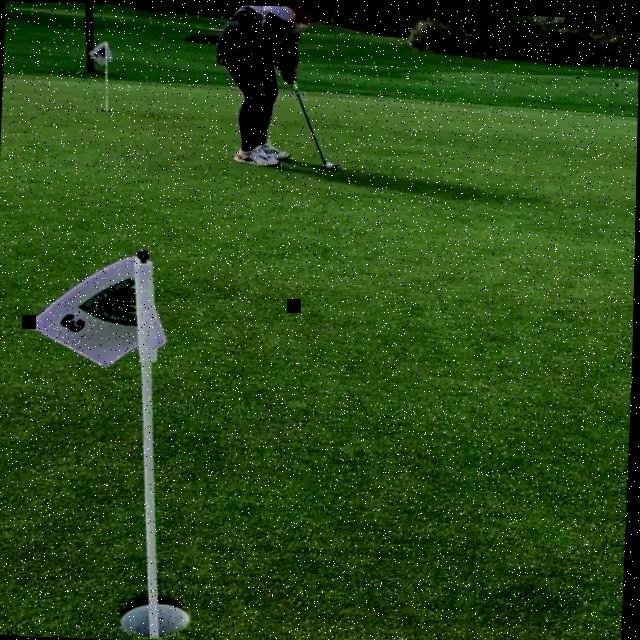ClubHead: (325, 161, 339, 168)
GolfBall: (326, 160, 333, 166)
